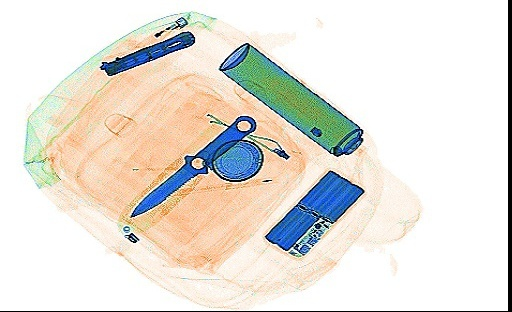knife: (127, 112, 256, 217), (96, 27, 195, 77)
lighter: (131, 13, 188, 53)
powerbank: (259, 165, 367, 261)
pressure: (216, 40, 367, 158)
